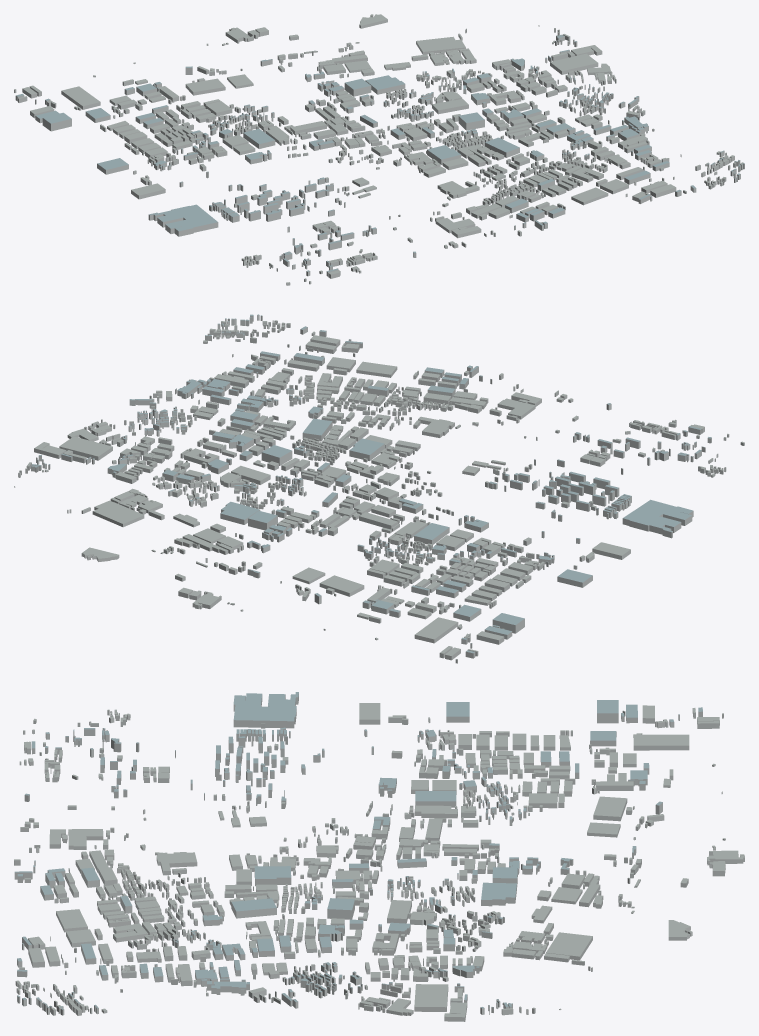
Rendered from far.glb.
3 renders of one model, top to bottom at view 1: azimuth 30°, elevation 25°; view 2: azimuth 150°, elevation 25°; view 3: azimuth 270°, elevation 25°, orthographic. The views are drawn at different scales.
Size of the model in its own units: 2247 by 32.42 by 2151.
